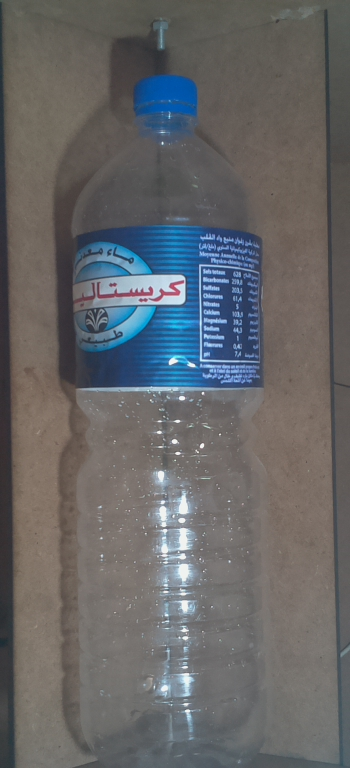Bouteille_2L: (63, 71, 276, 768)
